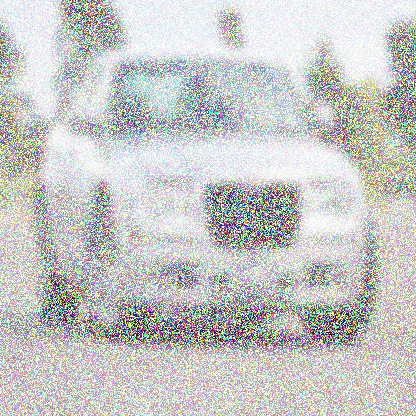Vehicle: (34, 46, 382, 348)
